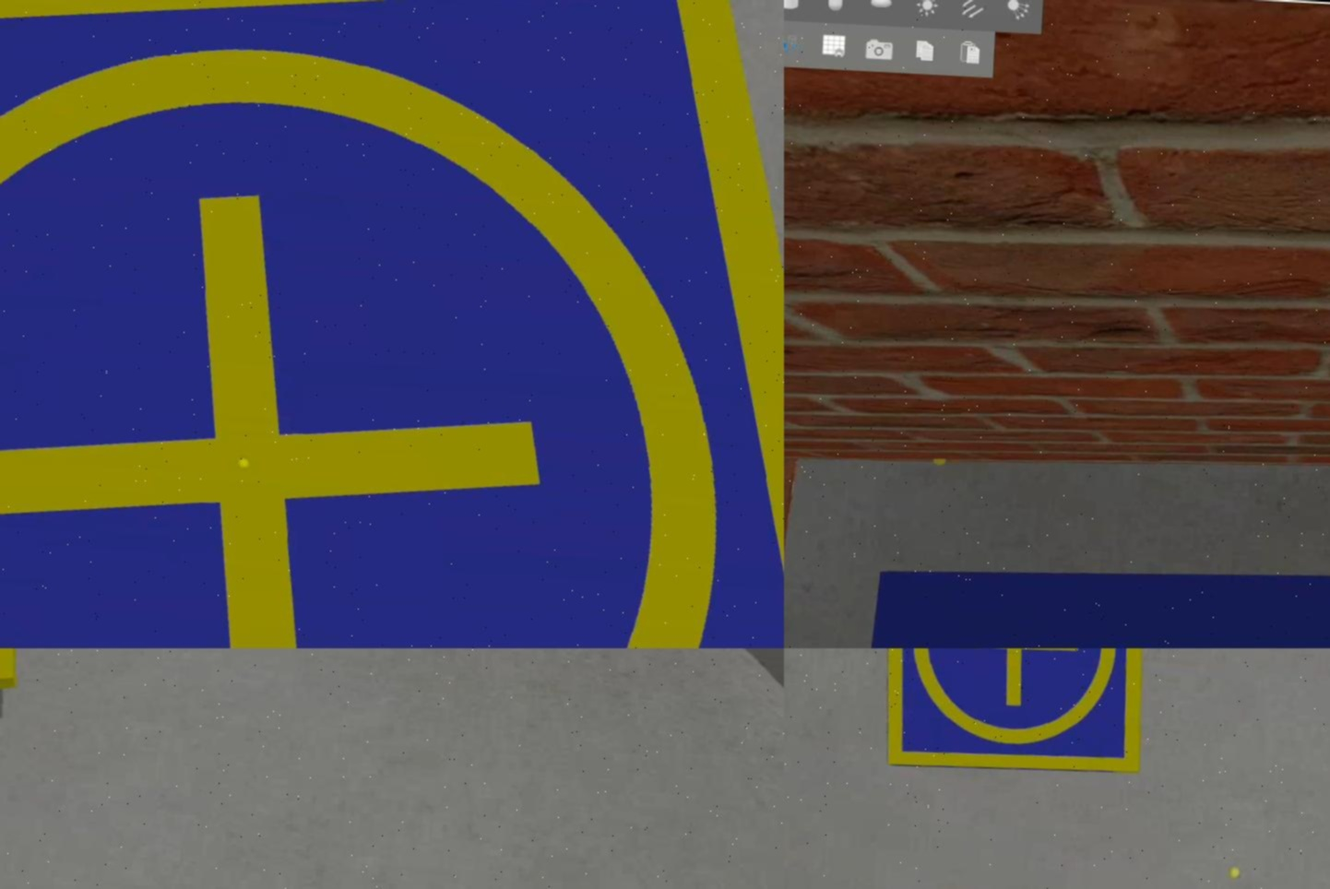small_base: (1, 1, 784, 649), (877, 649, 1152, 779)
